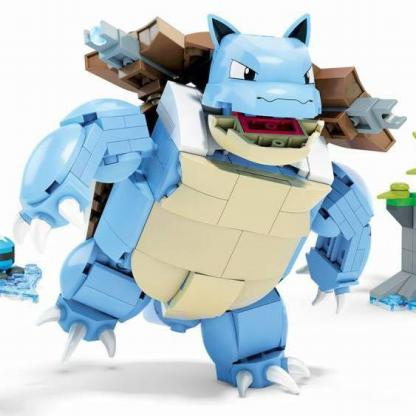Blastoise: (21, 13, 399, 406)
